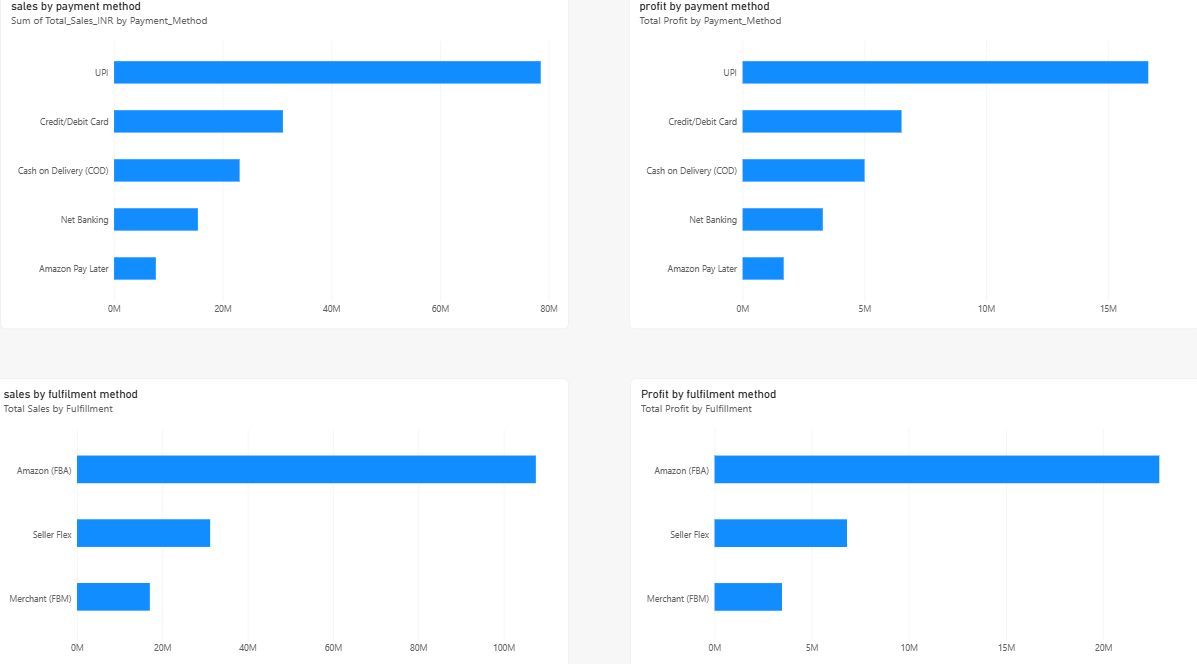

Layout of this report page (visuals, bound fields, positions):
{"tool":"powerbi","page":{"name":"payment and fulfilment performance ","canvas":[1920,1080],"ordinal":2},"visuals":[{"type":"clusteredBarChart","title":"sales by payment method ","fields":{"Category":["Sheet1.Payment_Method"],"Y":["Sum(Sheet1.Total_Sales_INR)"]},"box":[12.1,0,903.4,539.6],"z":0},{"type":"clusteredBarChart","title":"profit by payment method ","fields":{"Category":["Sheet1.Payment_Method"],"Y":["Sheet1.Total Profit"]},"box":[1012.6,0,909.5,539.6],"z":1},{"type":"clusteredBarChart","title":"sales by fulfilment method ","fields":{"Category":["Sheet1.Fulfillment"],"Y":["Sheet1.Total Sales"]},"box":[0,618.5,915.6,460.8],"z":2},{"type":"clusteredBarChart","title":"Profit by fulfilment method ","fields":{"Category":["Sheet1.Fulfillment"],"Y":["Sheet1.Total Profit"]},"box":[1013,618,907,461],"z":3}]}

Visuals, with their boxes in screenshot pixels (x1, y1, x2, y2), scaled from the page's 1920x1080 canvas onto the 1197x664 screenshot:
"sales by payment method " clusteredBarChart: bbox=(8, 0, 571, 332)
"profit by payment method " clusteredBarChart: bbox=(631, 0, 1196, 332)
"sales by fulfilment method " clusteredBarChart: bbox=(0, 380, 571, 663)
"Profit by fulfilment method " clusteredBarChart: bbox=(632, 380, 1196, 663)
